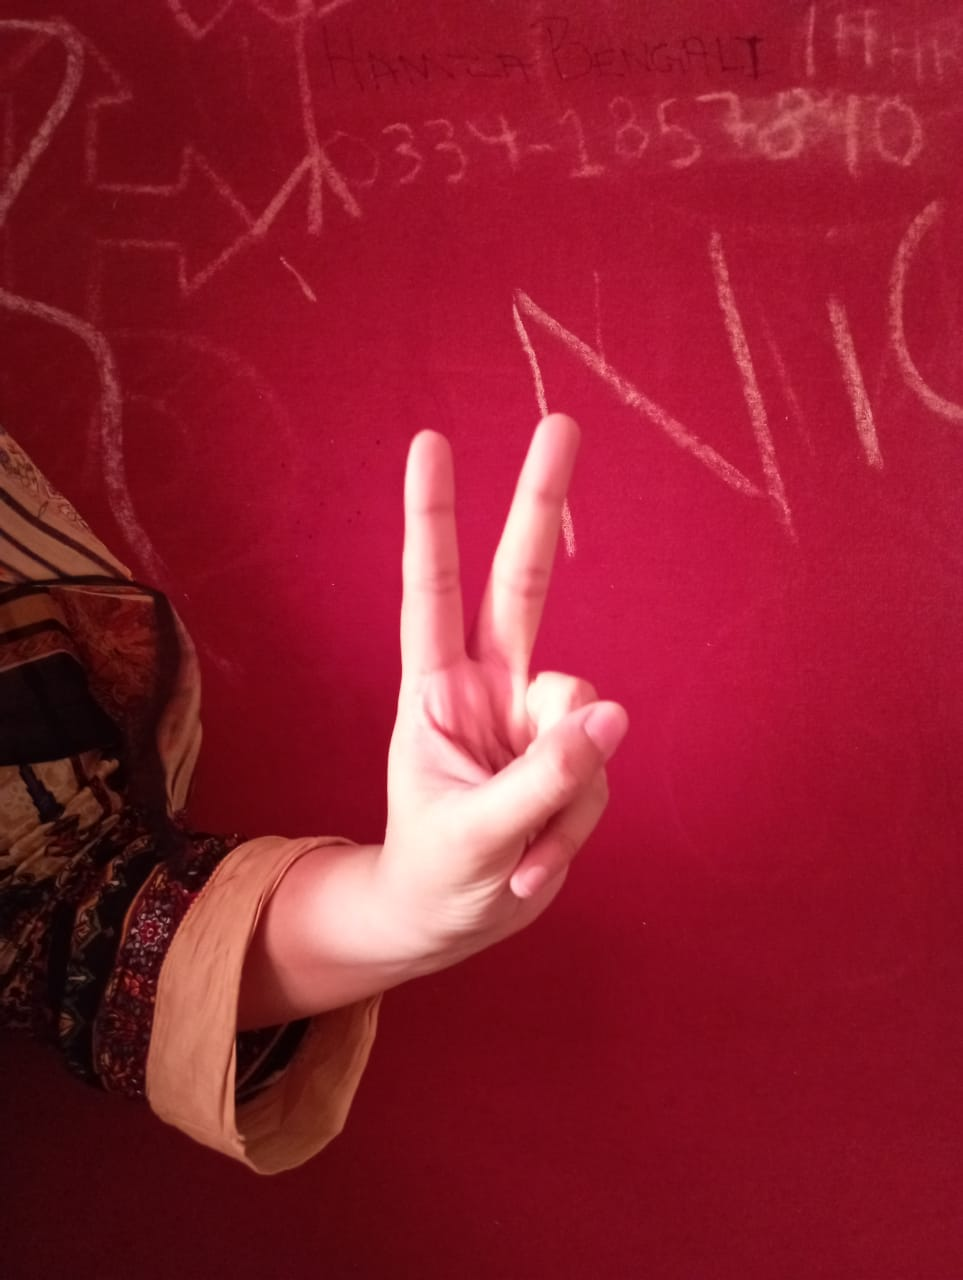Peace: (372, 410, 627, 961)
